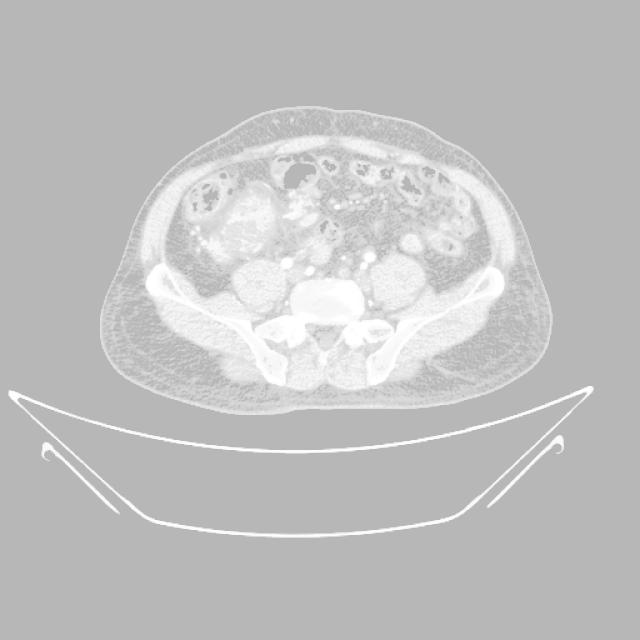TUMOR: (118, 109, 566, 287)
